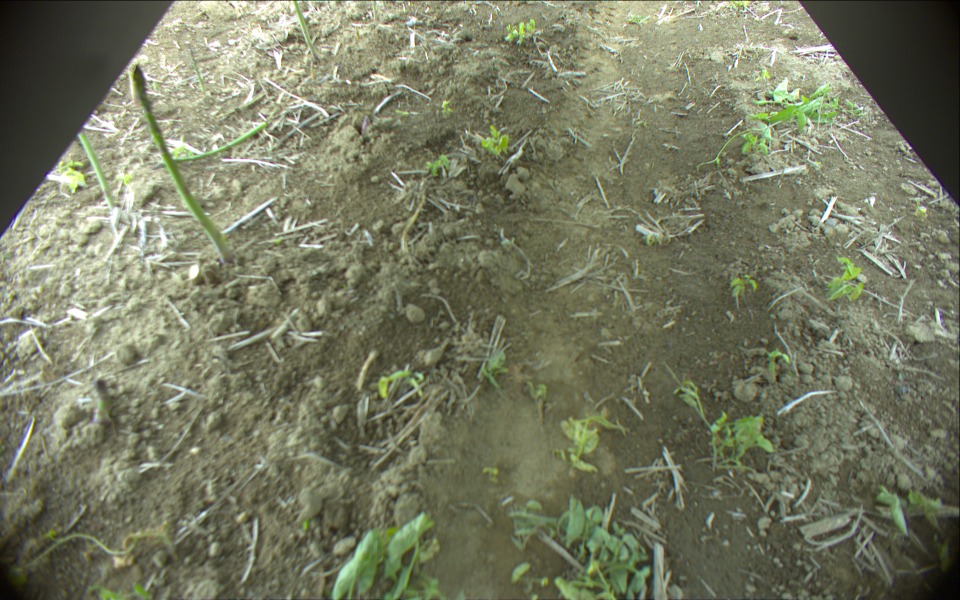aspa: (131, 64, 235, 265), (168, 121, 267, 164), (78, 128, 116, 213), (294, 1, 321, 64), (187, 43, 205, 93)
